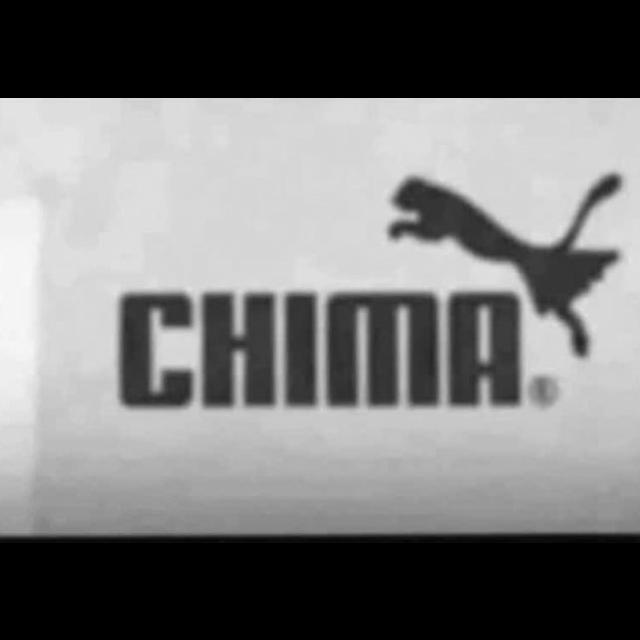PUMA_fake: (70, 183, 638, 464)
